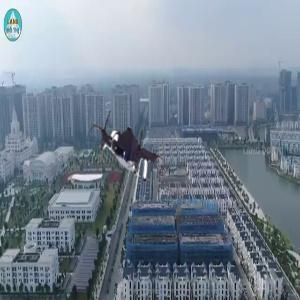drone: (84, 104, 175, 195)
